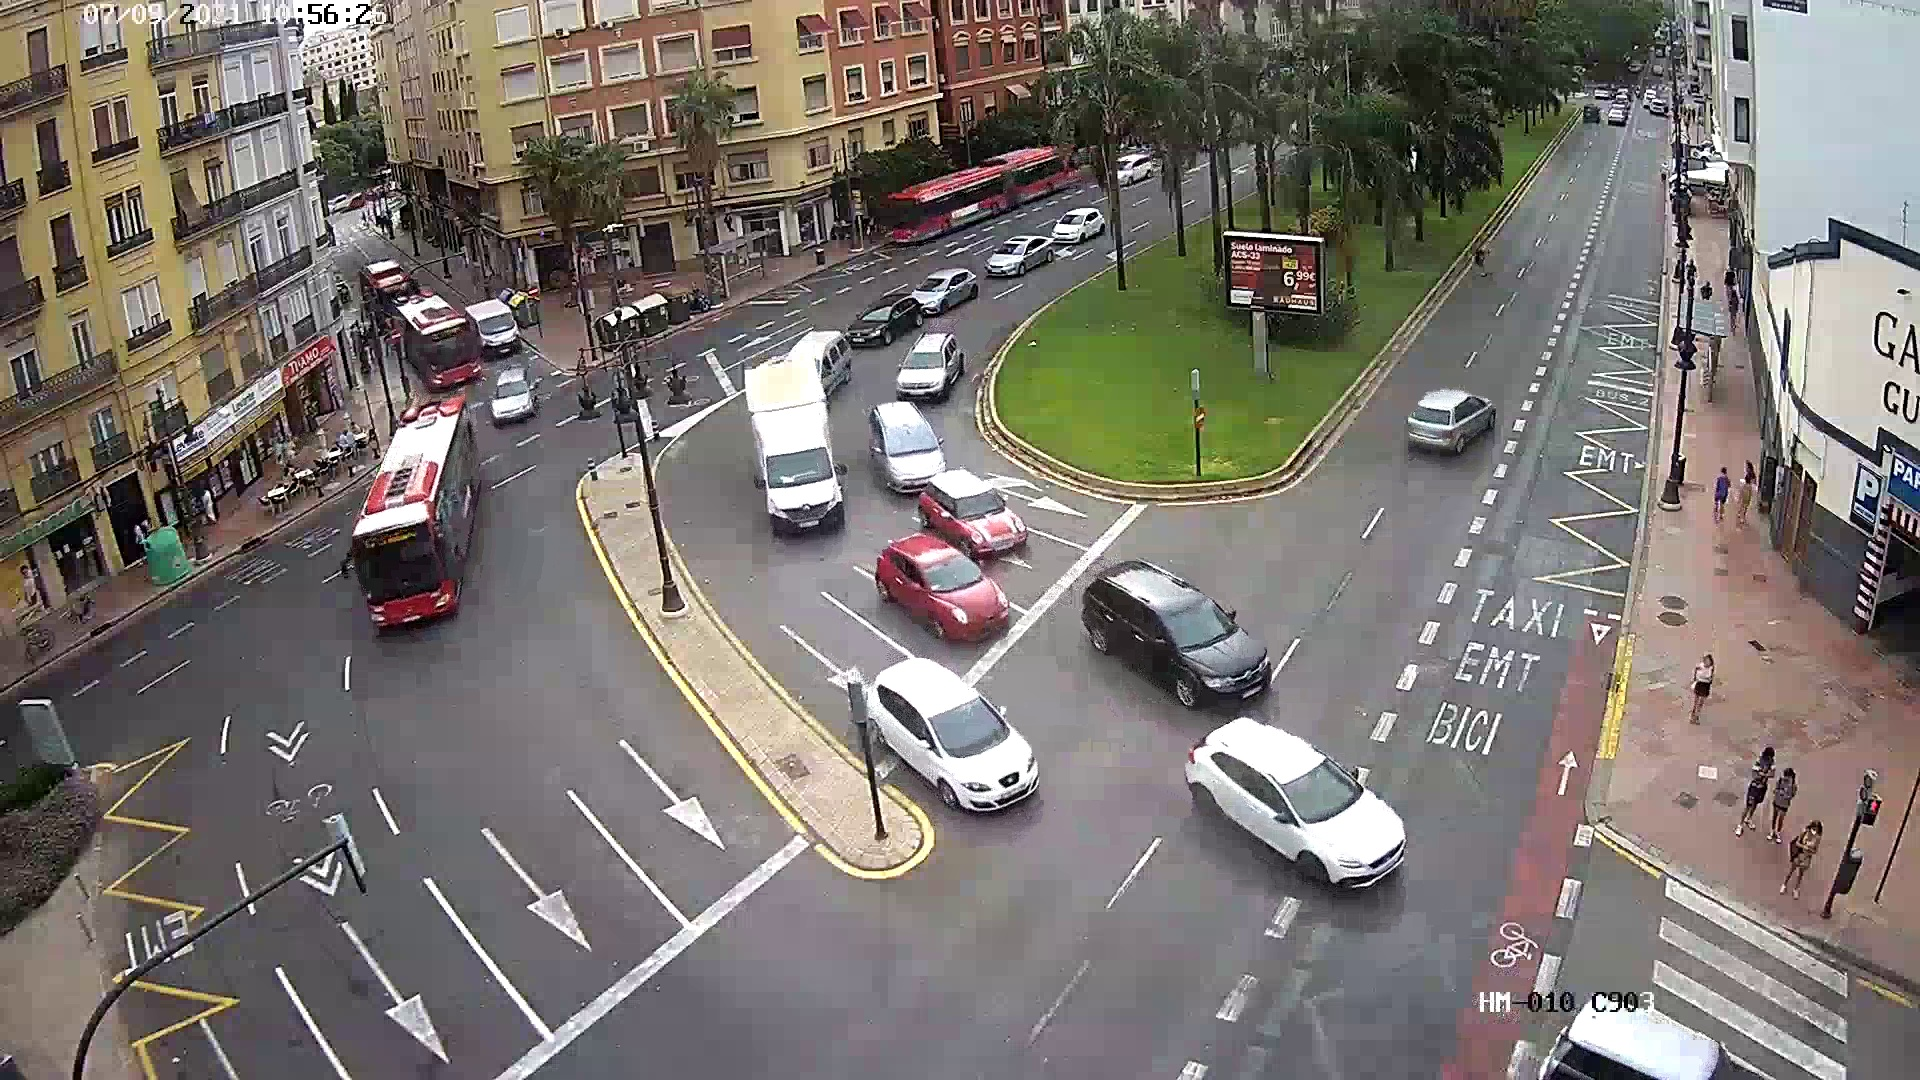Cars: (1164, 723, 1425, 891), (828, 651, 1047, 818), (1059, 545, 1284, 705), (862, 549, 1026, 644), (849, 404, 951, 487), (1404, 382, 1510, 460), (914, 493, 1033, 553), (895, 338, 975, 422), (905, 262, 978, 309), (978, 240, 1051, 284), (841, 301, 926, 338), (485, 363, 535, 425)
